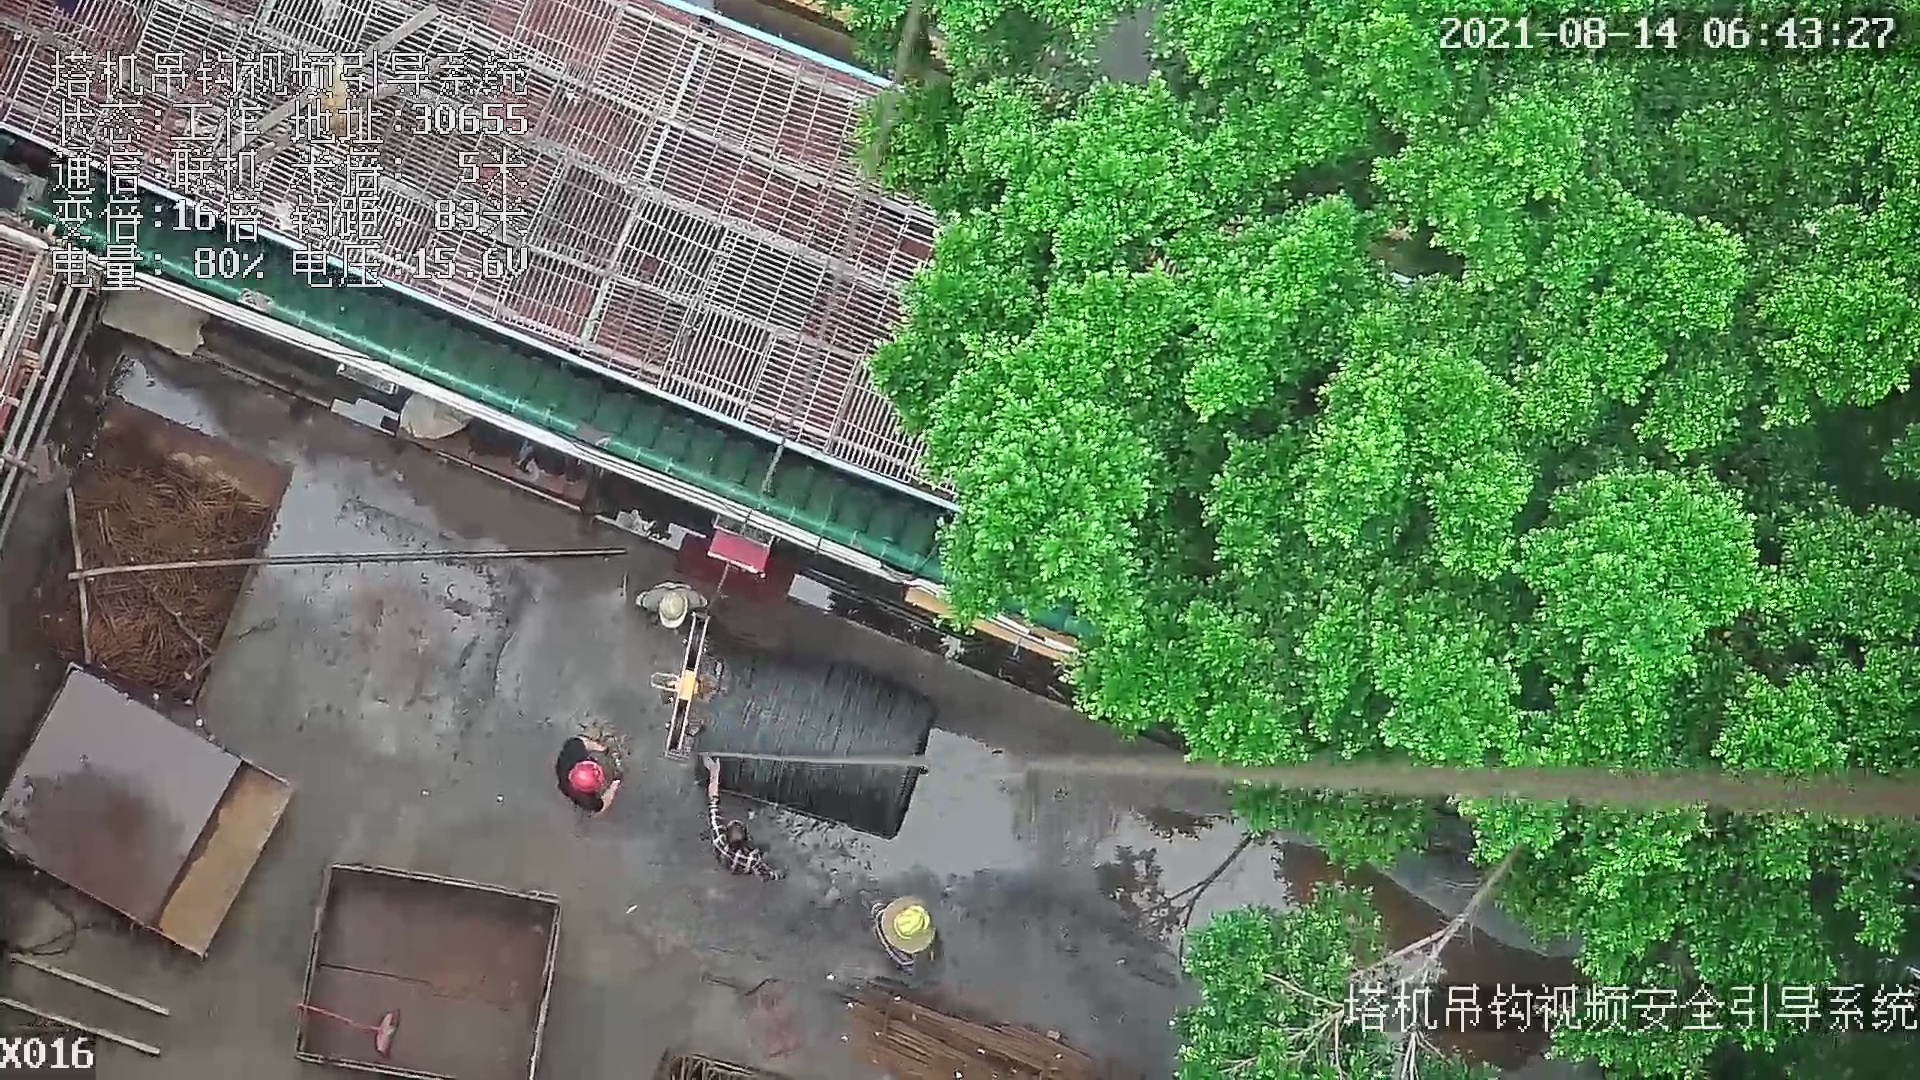helmet: (570, 758, 606, 804), (891, 898, 932, 939), (655, 589, 686, 641)
hook: (642, 604, 715, 763)
person: (699, 760, 786, 889), (863, 886, 935, 973), (560, 728, 627, 818), (635, 577, 726, 640)
